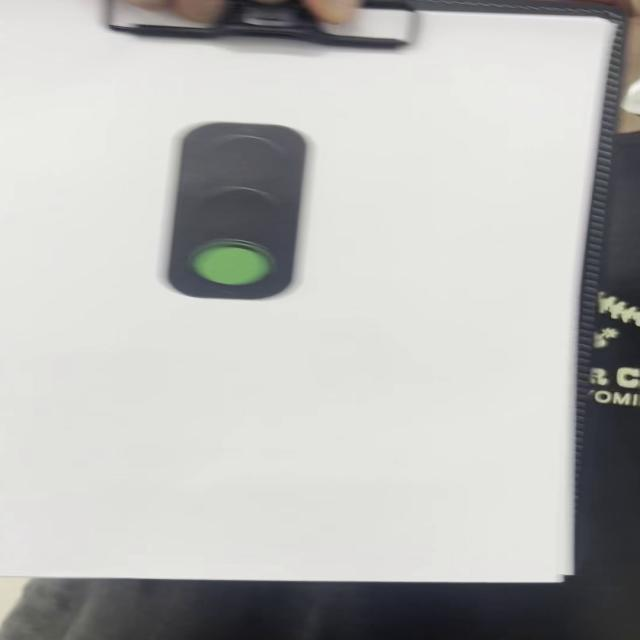green: (161, 122, 308, 303)
